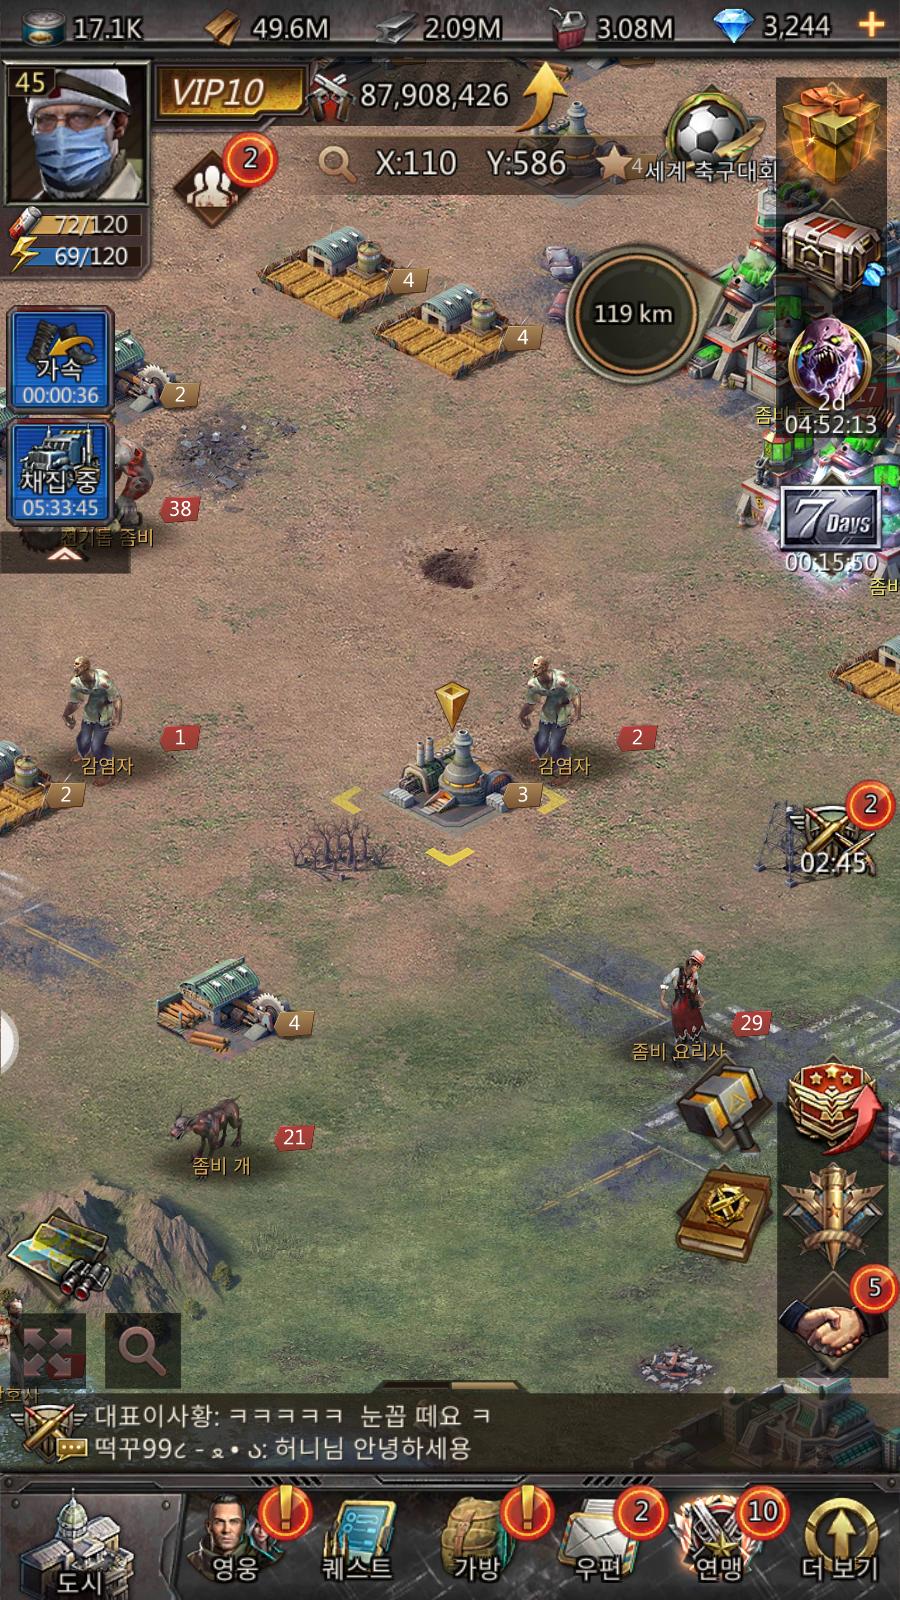city: (11, 1493, 175, 1600)
empty_steel: (325, 673, 573, 880)
open_panel: (96, 1302, 189, 1391)
troops_cnt_2: (165, 129, 291, 238)
